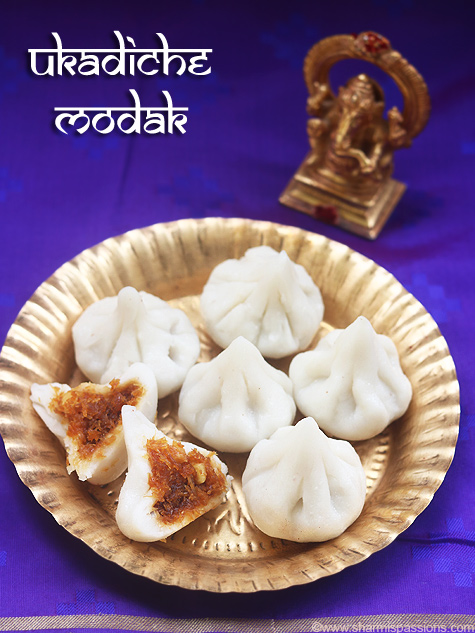modak: (244, 421, 370, 551), (304, 311, 422, 437), (81, 290, 201, 390), (206, 259, 330, 352), (190, 353, 305, 443)
